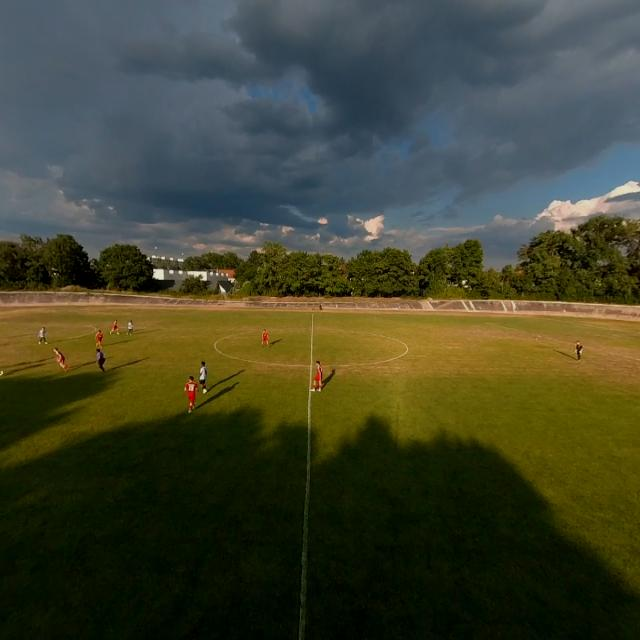ball: (184, 376, 198, 412), (0, 371, 3, 374)
